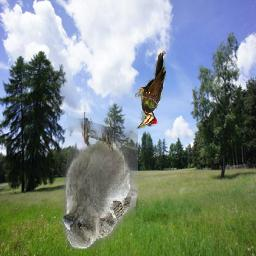Sparrow: (62, 113, 139, 250)
Woodpecker: (136, 51, 167, 130)
